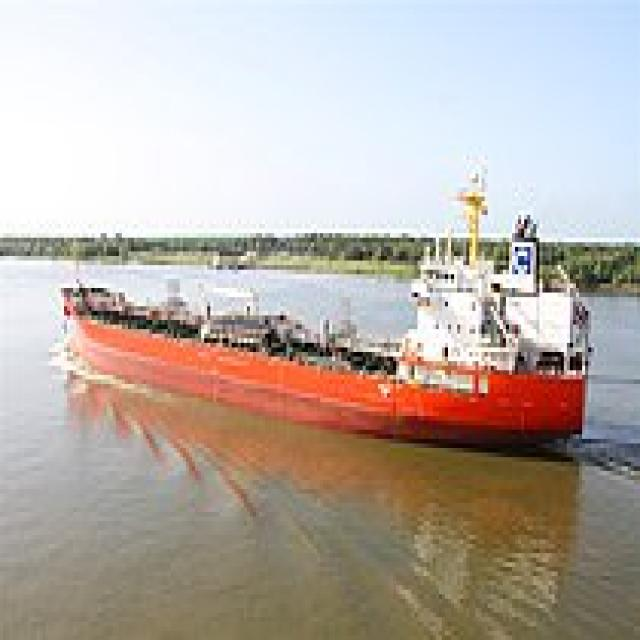Tanker: (52, 155, 591, 448)
